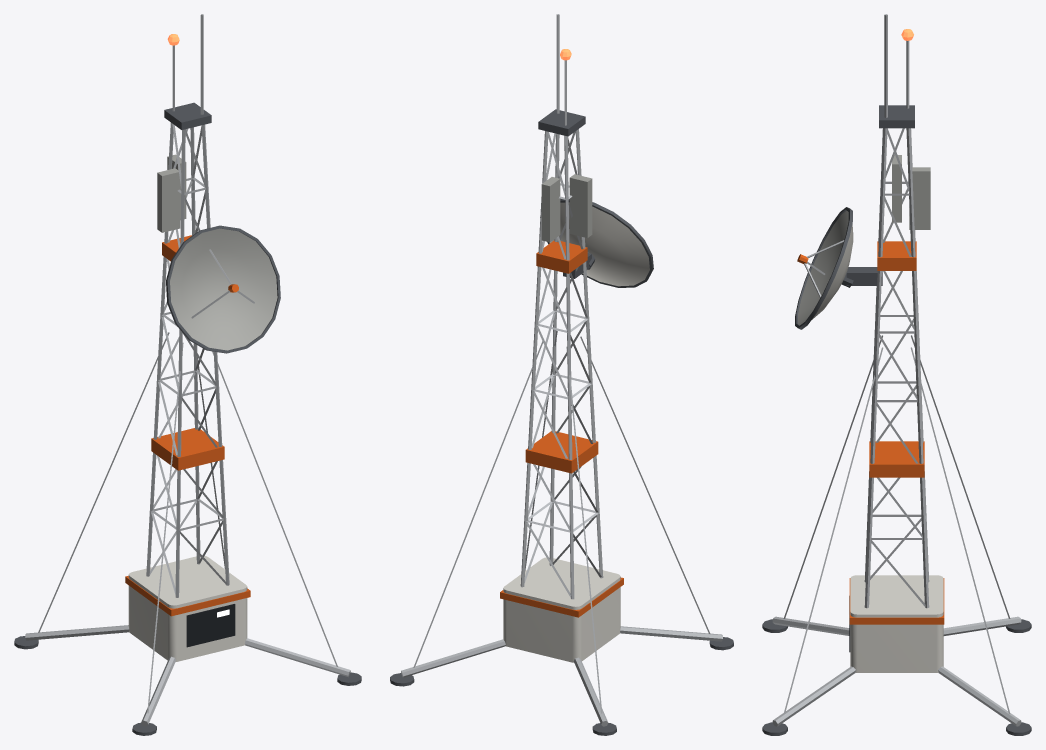
The model's file is comms_tower.glb.
The picture shows the model from 3 angles, left to right: view 1: azimuth 30°, elevation 25°; view 2: azimuth 150°, elevation 25°; view 3: azimuth 270°, elevation 25°; orthographic projection. The views are drawn at different scales.
Parts seen in each view (by area): view 1: body, dish; view 2: body, dish; view 3: body, dish.
Boxes of the visible parts, bbox=[...] form: body: bbox=[14, 14, 361, 735]; dish: bbox=[166, 225, 280, 353]; body: bbox=[390, 14, 733, 735]; dish: bbox=[540, 198, 653, 287]; body: bbox=[762, 14, 1031, 735]; dish: bbox=[795, 207, 853, 329].
Size of the model in its own units: 3.74 by 10.3 by 3.76.
